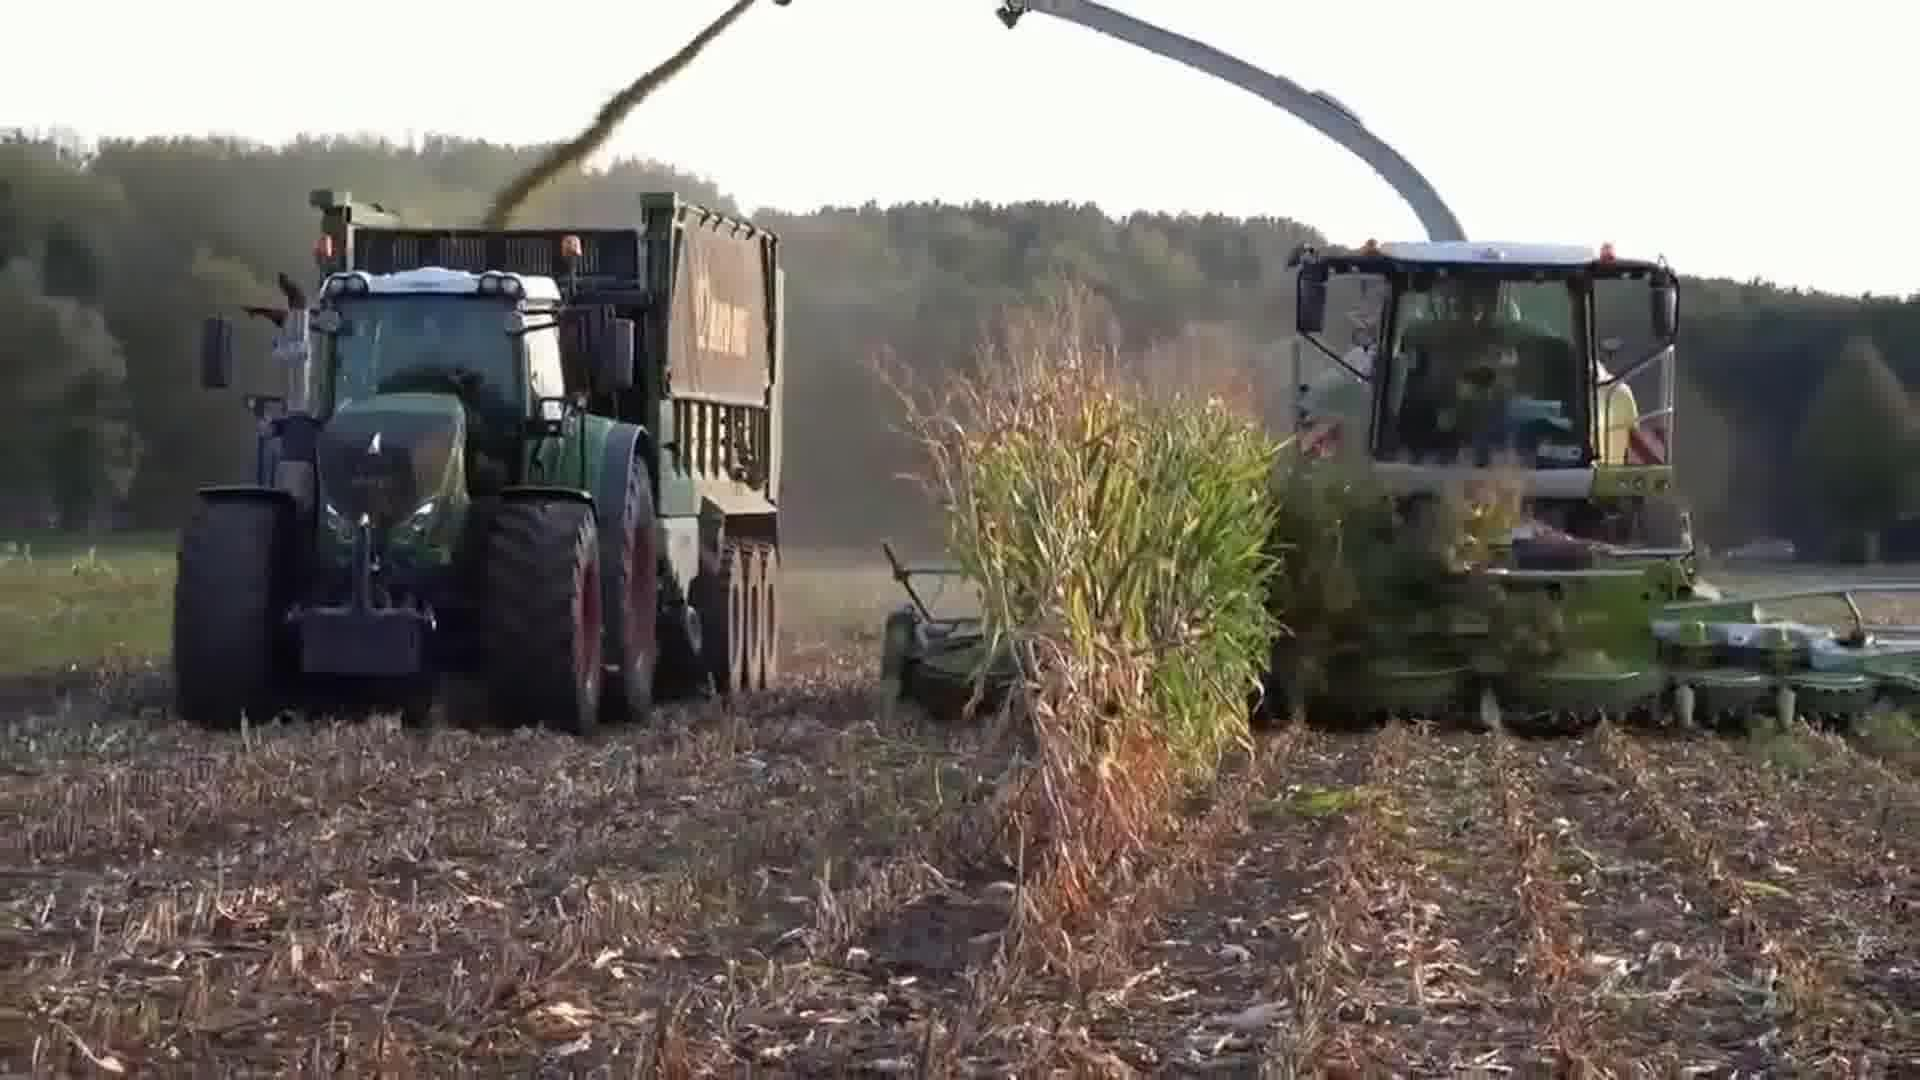combine harvester: (861, 0, 1920, 743)
tractor: (167, 226, 667, 741)
trailer: (300, 176, 790, 701)
